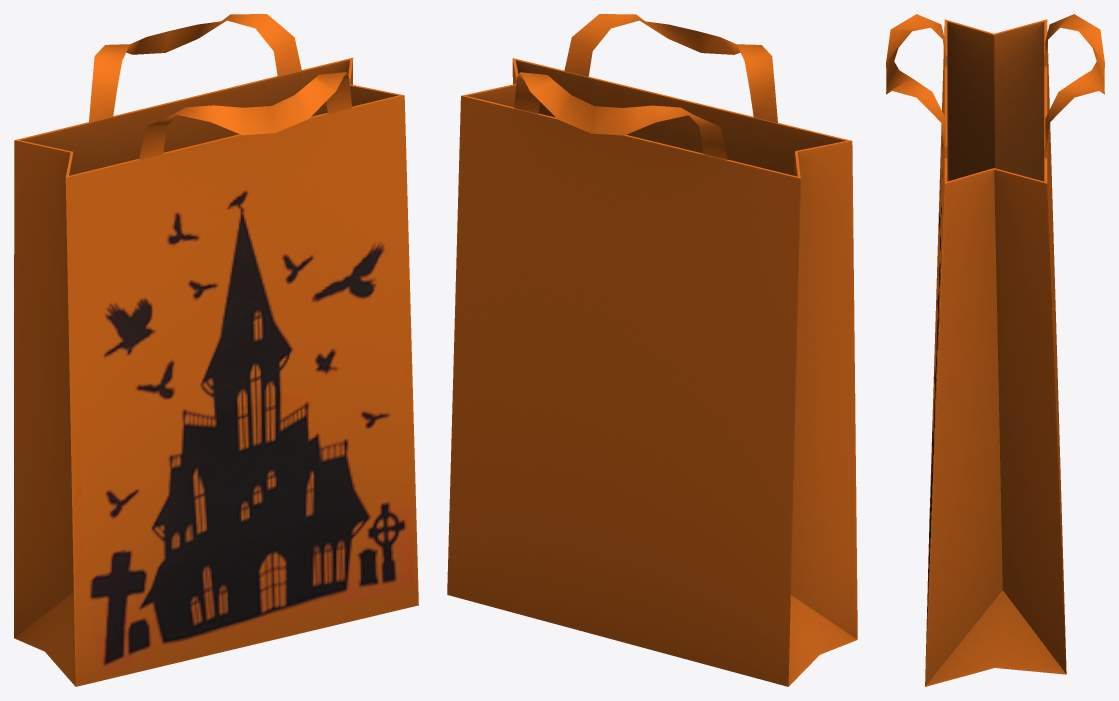
Rendered from HW_BagOrange.fbx.
3 views of the same model, side by side, from view 1: azimuth 30°, elevation 25°; view 2: azimuth 150°, elevation 25°; view 3: azimuth 270°, elevation 25° (orthographic).
Visible parts, largest first — view 1: HW_BagOrange; view 2: HW_BagOrange; view 3: HW_BagOrange.
Part boxes in pixels (left/top/right/bottom): HW_BagOrange: left=14, top=14, right=418, bottom=686; HW_BagOrange: left=447, top=14, right=857, bottom=686; HW_BagOrange: left=886, top=14, right=1104, bottom=686.
Size of the model in its own units: 0.5633 by 0.8723 by 0.3127.
Materials: 1 (1 with a texture image).
